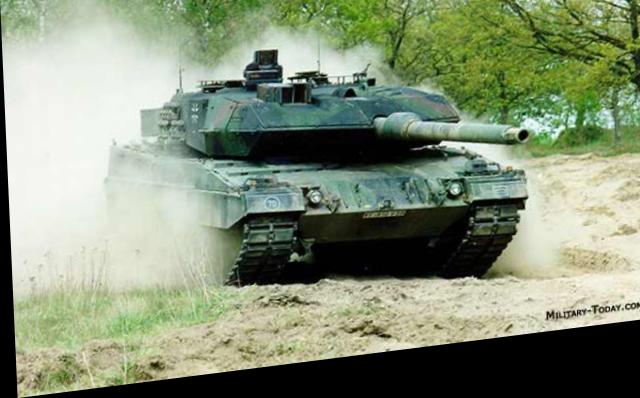tank: (78, 0, 540, 327)
